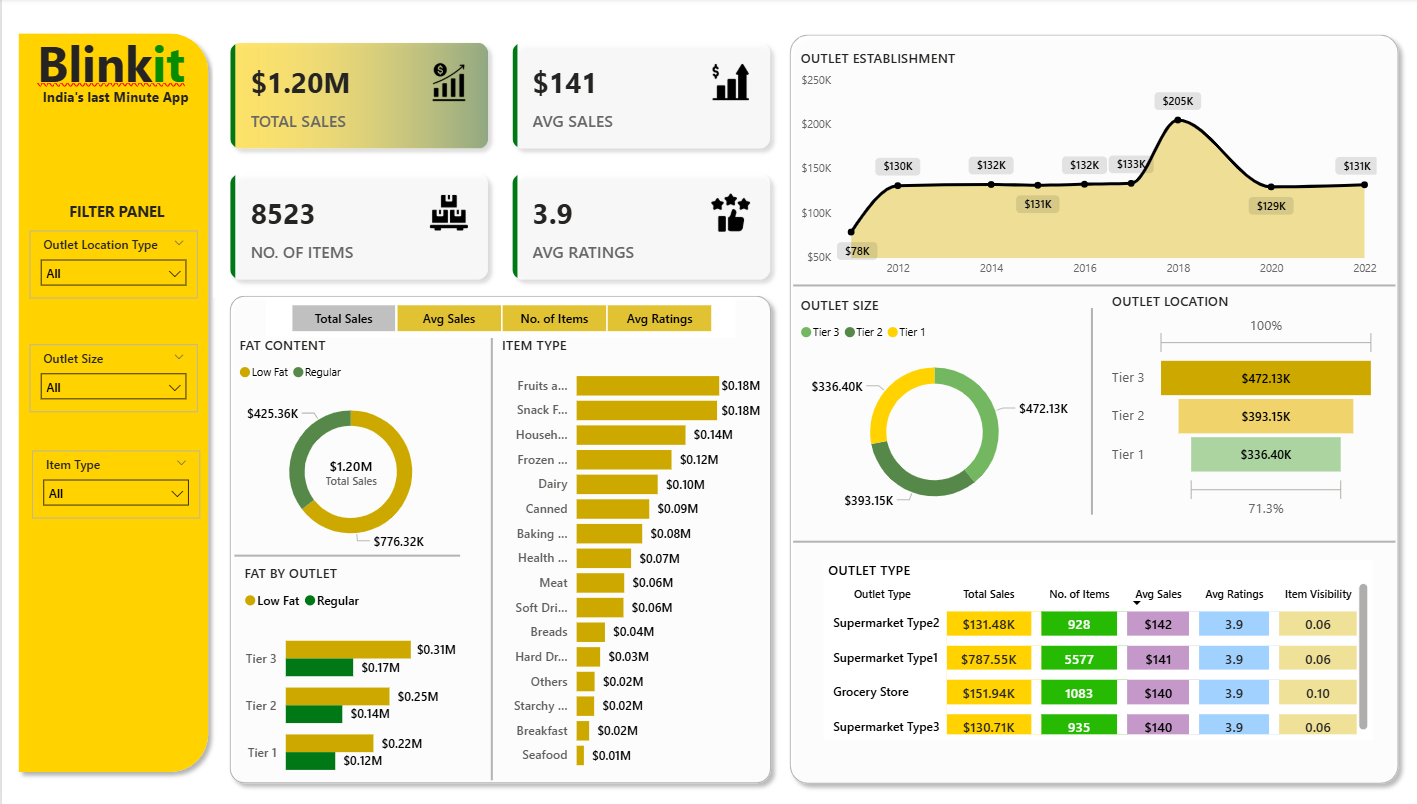

The page's visual inventory and layout, read from the dashboard file:
{"tool":"powerbi","page":{"name":"Page 1","canvas":[1400,800],"ordinal":0},"visuals":[{"type":"shape","box":[7.5,25.5,205.6,748.9],"z":0},{"type":"textbox","box":[370.7,90.1,166.6,63],"z":1000},{"type":"textbox","box":[21,84,183.1,48],"z":2000},{"type":"textbox","box":[30,25.5,166.6,78],"z":3000},{"type":"cardVisual","fields":{"Data":["BlinkIT Grocery Data.Total Sales","BlinkIT Grocery Data.Avg Sales","BlinkIT Grocery Data.No. of Items","BlinkIT Grocery Data.Avg Ratings"]},"box":[208.6,27.3,569.9,269.9],"z":4000},{"type":"shape","box":[216.8,286.3,553.5,500.3],"z":5000},{"type":"donutChart","title":"FAT CONTENT","fields":{"Y":["BlinkIT Grocery Data.Total Sales"],"Category":["BlinkIT Grocery Data.Item Fat Content"]},"box":[230.4,334,230.4,225],"z":6000},{"type":"slicer","fields":{"Values":["Metrics.Metrics"]},"box":[260.4,297.2,464.9,39.5],"z":7000},{"type":"cardVisual","fields":{"Data":["BlinkIT Grocery Data.Total Sales"]},"box":[298.6,436.3,95.4,65.4],"z":8000},{"type":"clusteredBarChart","title":"FAT BY OUTLET","fields":{"Y":["BlinkIT Grocery Data.Total Sales"],"Category":["BlinkIT Grocery Data.Outlet Location Type"],"Series":["BlinkIT Grocery Data.Item Fat Content"]},"box":[234.5,559,219.5,230.4],"z":9000},{"type":"shape","box":[230.4,537.2,223.6,30],"z":10000},{"type":"shape","box":[479.9,336.7,9.5,437.6],"z":11000},{"type":"barChart","title":"ITEM TYPE","fields":{"Y":["BlinkIT Grocery Data.Total Sales"],"Category":["BlinkIT Grocery Data.Item Type"]},"box":[489.4,334,265.9,440.4],"z":12000},{"type":"shape","box":[770.3,27.3,620.3,759.4],"z":13000},{"type":"lineChart","title":"OUTLET ESTABLISHMENT","fields":{"Y":["BlinkIT Grocery Data.Total Sales"],"Category":["BlinkIT Grocery Data.Outlet Establishment Year"]},"box":[785.3,49.1,580,235],"z":14000},{"type":"shape","box":[782.6,278.1,595.8,12.3],"z":15000},{"type":"donutChart","title":"OUTLET SIZE","fields":{"Y":["BlinkIT Grocery Data.Total Sales"],"Category":["BlinkIT Grocery Data.Outlet Location Type"]},"box":[785.3,294.5,275,225],"z":16000},{"type":"shape","box":[1072.9,306.8,12.3,204.5],"z":17000},{"type":"funnel","title":"OUTLET LOCATION","fields":{"Y":["BlinkIT Grocery Data.Total Sales"],"Category":["BlinkIT Grocery Data.Outlet Location Type"]},"box":[1093.4,290.4,271.3,229],"z":18000},{"type":"shape","box":[782.6,531.7,595.8,12.3],"z":19000},{"type":"pivotTable","title":"OUTLET TYPE","fields":{"Rows":["BlinkIT Grocery Data.Outlet Type"],"Values":["BlinkIT Grocery Data.Total Sales","BlinkIT Grocery Data.No. of Items","BlinkIT Grocery Data.Avg Sales","BlinkIT Grocery Data.Avg Ratings","Avg(BlinkIT Grocery Data.Item Visibility)"]},"box":[812.5,556.2,544,177.2],"z":20000},{"type":"slicer","fields":{"Values":["BlinkIT Grocery Data.Outlet Location Type"]},"box":[27.3,230.4,166.3,66.8],"z":21000},{"type":"slicer","fields":{"Values":["BlinkIT Grocery Data.Outlet Size"]},"box":[27.3,342.2,166.3,66.8],"z":22000},{"type":"slicer","fields":{"Values":["BlinkIT Grocery Data.Item Type"]},"box":[30,447.2,166.3,66.8],"z":23000},{"type":"textbox","box":[21.8,195,182.7,31.4],"z":23001}]}

Visuals, with their boxes in screenshot pixels (x1, y1, x2, y2), scaled from the page's 1400x800 canvas onto the 1417x804 screenshot:
shape: <bbox>8, 26, 216, 778</bbox>
textbox: <bbox>375, 91, 544, 154</bbox>
textbox: <bbox>21, 84, 207, 133</bbox>
textbox: <bbox>30, 26, 199, 104</bbox>
cardVisual - BlinkIT Grocery Data.Total Sales x BlinkIT Grocery Data.Avg Sales: <bbox>211, 27, 788, 299</bbox>
shape: <bbox>219, 288, 780, 791</bbox>
"FAT CONTENT" donutChart: <bbox>233, 336, 466, 562</bbox>
slicer - Metrics.Metrics: <bbox>264, 299, 734, 338</bbox>
cardVisual - BlinkIT Grocery Data.Total Sales: <bbox>302, 438, 399, 504</bbox>
"FAT BY OUTLET" clusteredBarChart: <bbox>237, 562, 460, 793</bbox>
shape: <bbox>233, 540, 460, 570</bbox>
shape: <bbox>486, 338, 495, 778</bbox>
"ITEM TYPE" barChart: <bbox>495, 336, 764, 778</bbox>
shape: <bbox>780, 27, 1407, 791</bbox>
"OUTLET ESTABLISHMENT" lineChart: <bbox>795, 49, 1382, 286</bbox>
shape: <bbox>792, 279, 1395, 292</bbox>
"OUTLET SIZE" donutChart: <bbox>795, 296, 1073, 522</bbox>
shape: <bbox>1086, 308, 1098, 514</bbox>
"OUTLET LOCATION" funnel: <bbox>1107, 292, 1381, 522</bbox>
shape: <bbox>792, 534, 1395, 547</bbox>
"OUTLET TYPE" pivotTable: <bbox>822, 559, 1373, 737</bbox>
slicer - BlinkIT Grocery Data.Outlet Location Type: <bbox>28, 232, 196, 299</bbox>
slicer - BlinkIT Grocery Data.Outlet Size: <bbox>28, 344, 196, 411</bbox>
slicer - BlinkIT Grocery Data.Item Type: <bbox>30, 449, 199, 517</bbox>
textbox: <bbox>22, 196, 207, 228</bbox>
